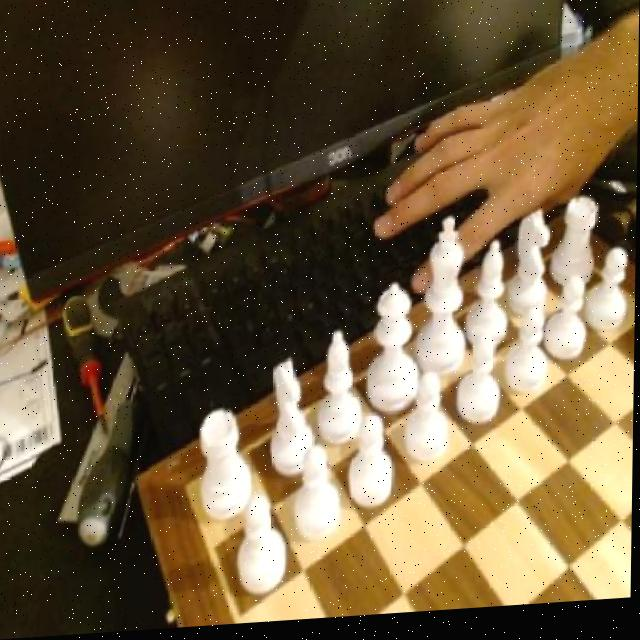black-rook: (313, 332, 363, 457), (467, 245, 511, 360)
white-bishop: (415, 222, 469, 392)
white-king: (267, 359, 314, 490), (506, 213, 552, 327)
white-knight: (233, 489, 289, 608), (400, 374, 454, 473), (348, 416, 396, 521), (292, 449, 344, 545), (542, 278, 592, 374), (457, 343, 503, 434), (503, 316, 548, 404), (586, 254, 631, 340)
white-pawn: (367, 285, 419, 421)
white-queen: (195, 410, 252, 524), (548, 202, 600, 300)
